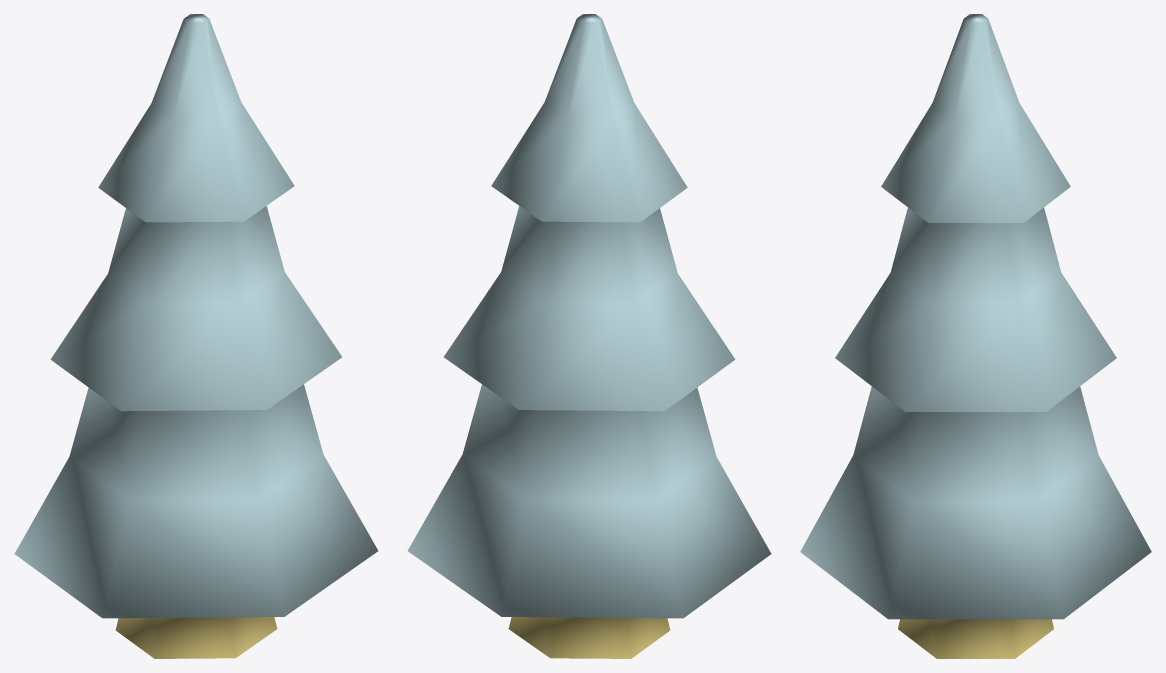
The model's file is Tree_Extra_FrostyFields.fbx.
The picture shows the model from 3 angles, left to right: view 1: azimuth 30°, elevation 25°; view 2: azimuth 150°, elevation 25°; view 3: azimuth 270°, elevation 25°; orthographic projection.
Parts seen in each view (by area): view 1: Tree_Decoration_01.001; view 2: Tree_Decoration_01.001; view 3: Tree_Decoration_01.001.
Part boxes in pixels (x1,y1,x2,y2): Tree_Decoration_01.001: [14, 14, 378, 658]; Tree_Decoration_01.001: [407, 14, 771, 658]; Tree_Decoration_01.001: [800, 14, 1151, 658].
Bounding box in the file's own units: 89.3 × 189 × 98.62.
